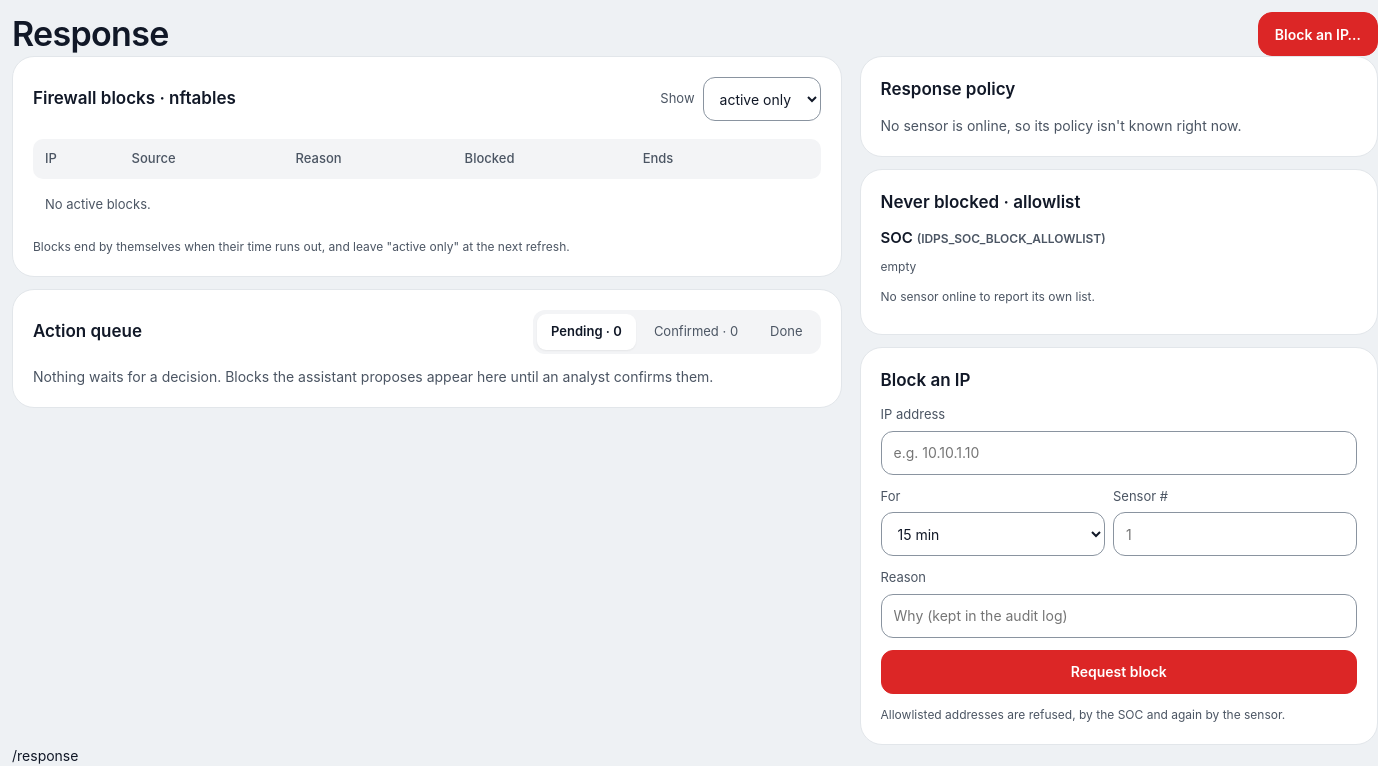
Test: blocks table › show=all drops active=true
The image size is (1378, 766).
Expected: the text "No active blocks." is shown, 33,184 -> 820,224
Select "all" in the dropdown labelled "Show" at (762, 99), box 702,77 -> 820,121
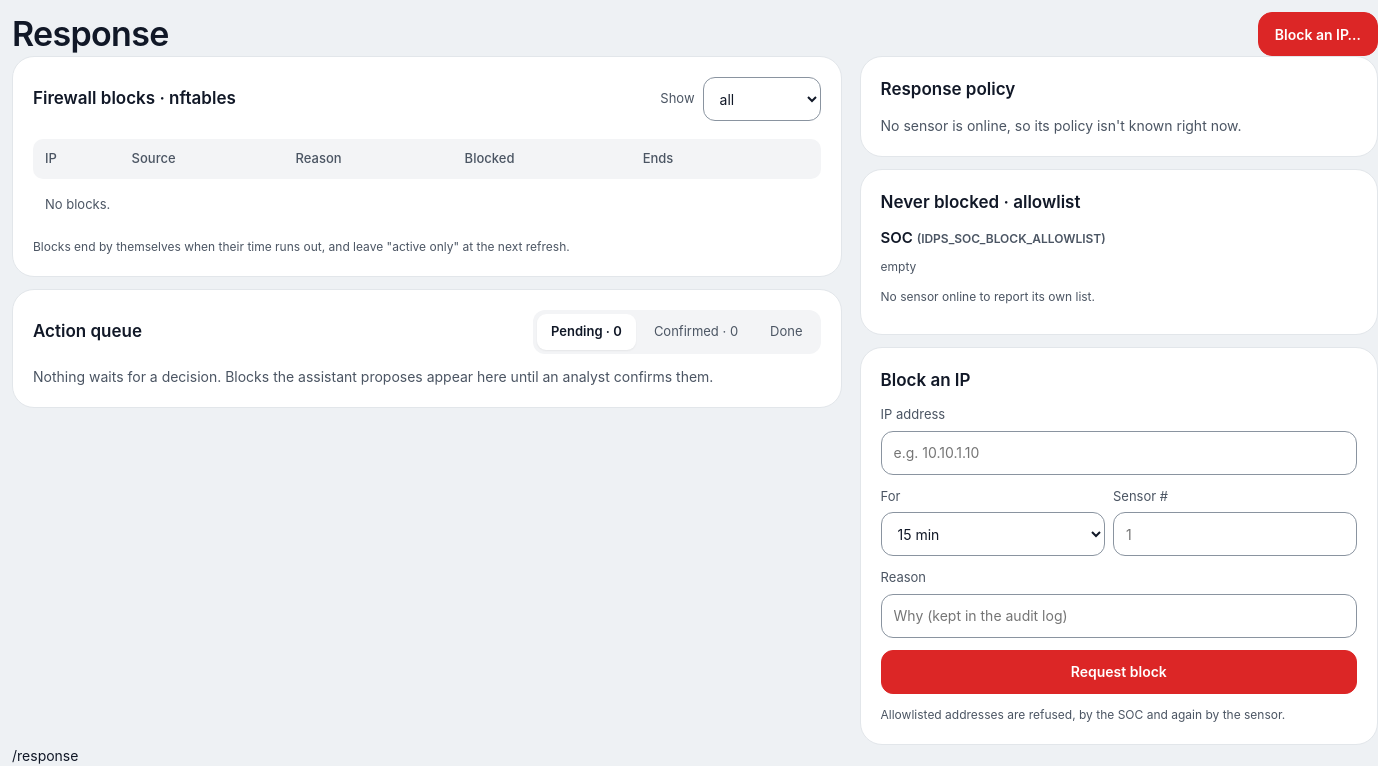
Now the text "No blocks." is shown, box 33,184 -> 820,224
